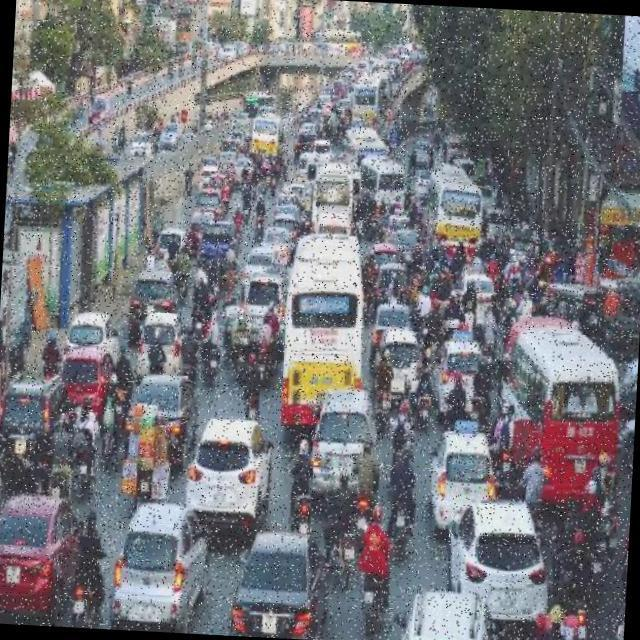License Plate: (496, 584, 520, 620), (206, 486, 234, 514), (330, 450, 354, 476), (392, 364, 410, 394), (258, 617, 282, 639), (134, 601, 154, 627), (571, 450, 589, 478), (70, 596, 90, 620), (296, 517, 314, 543), (358, 584, 374, 608), (316, 392, 330, 412), (16, 436, 28, 456), (145, 303, 157, 317), (478, 300, 487, 316), (256, 316, 266, 328), (461, 379, 471, 389), (518, 254, 526, 266), (405, 252, 413, 262), (495, 225, 501, 235)
